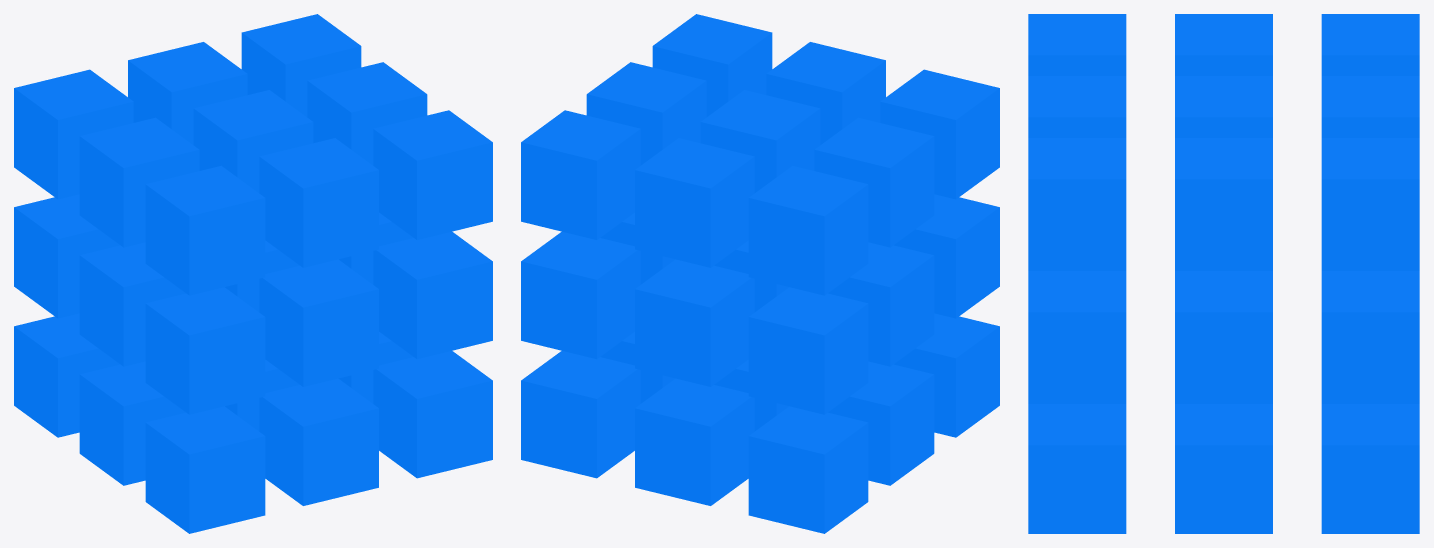
File: totem_blockchain.glb
3 renders of one model, left to right at view 1: azimuth 30°, elevation 25°; view 2: azimuth 150°, elevation 25°; view 3: azimuth 270°, elevation 25°, orthographic. The views are drawn at different scales.
Parts seen in each view (by area): view 1: totem_blockchain_1; view 2: totem_blockchain_1; view 3: totem_blockchain_1.
Part boxes in pixels (x1,y1,x2,y2): totem_blockchain_1: (14, 14, 492, 533); totem_blockchain_1: (521, 14, 999, 533); totem_blockchain_1: (1028, 14, 1419, 533).
Bounding box in the file's own units: 1.01 × 1.01 × 1.01.
